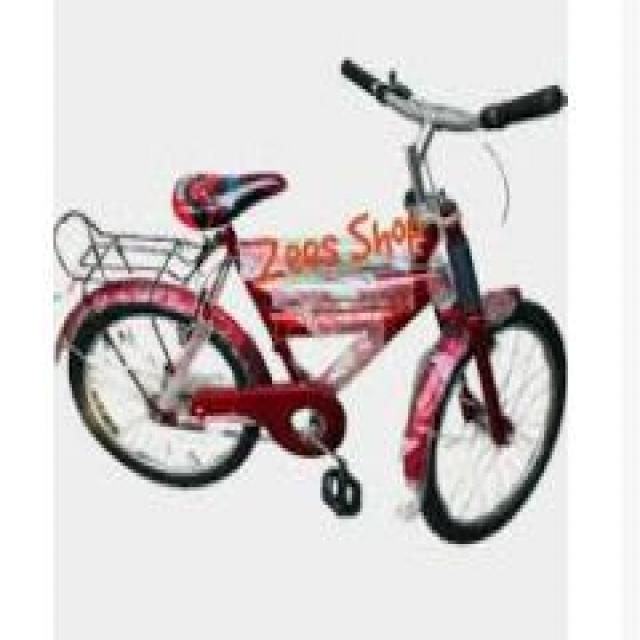bicycle: (54, 69, 569, 549)
